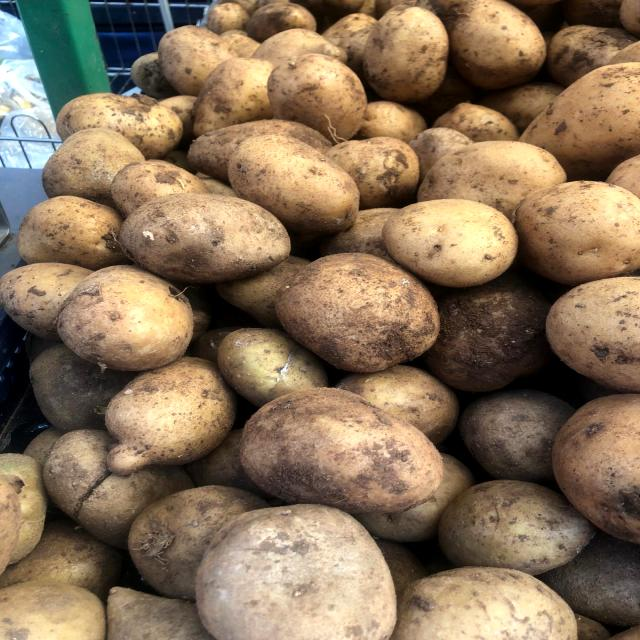potato: (219, 380, 468, 524), (183, 490, 405, 640), (266, 241, 454, 378), (44, 257, 213, 372), (217, 128, 376, 239), (110, 188, 298, 280), (377, 190, 532, 292), (513, 175, 640, 294), (351, 0, 468, 107), (258, 41, 382, 141)
